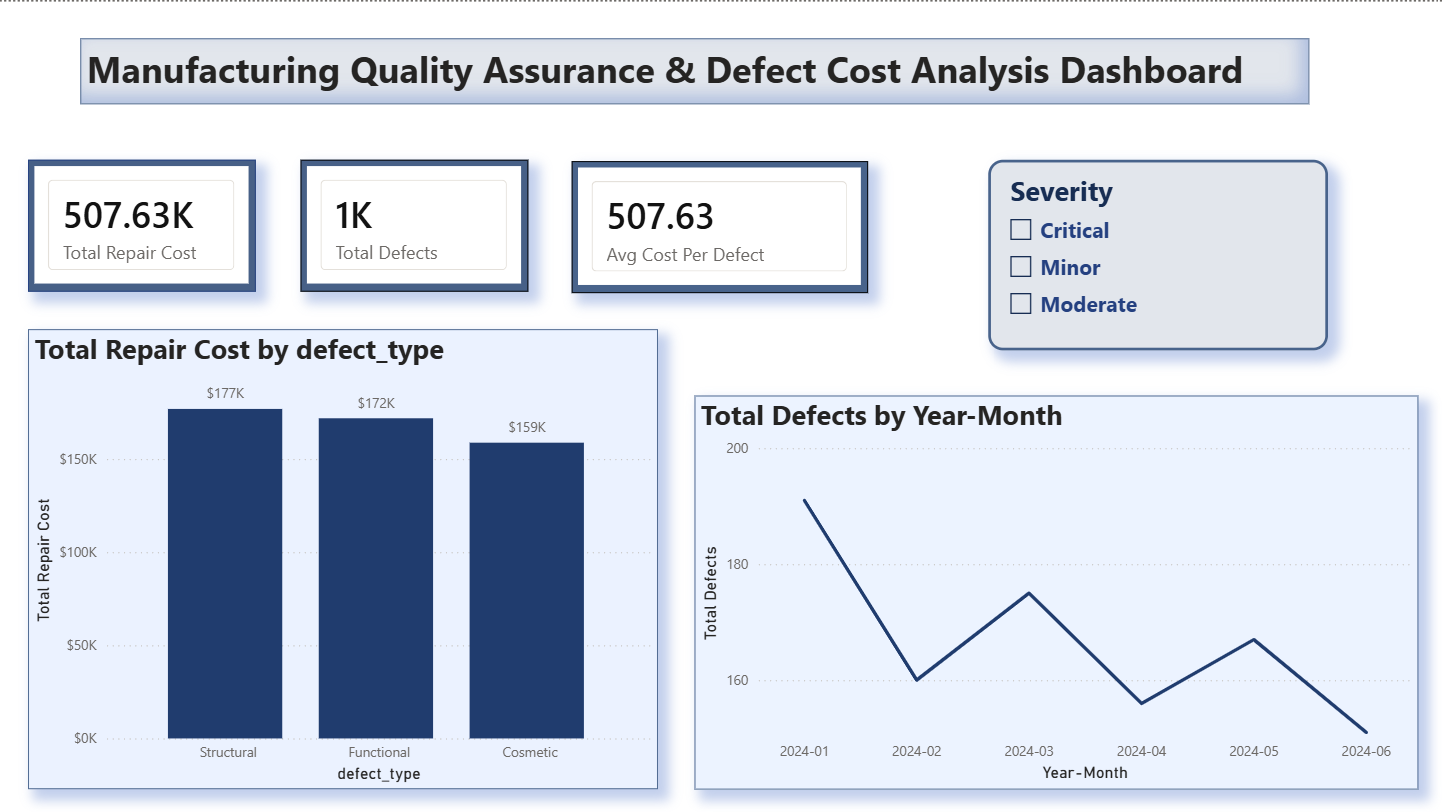

The page's visual inventory and layout, read from the dashboard file:
{"tool":"powerbi","page":{"name":"Page 1","canvas":[1280,720],"ordinal":0},"visuals":[{"type":"cardVisual","fields":{"Data":["cleaned_defects_data.Total Repair Cost"]},"box":[26.1,140,201.7,116.6],"z":0},{"type":"cardVisual","fields":{"Data":["cleaned_defects_data.Total Defects"]},"box":[266.9,140,201.7,116.6],"z":1000},{"type":"cardVisual","fields":{"Data":["cleaned_defects_data.Avg Cost Per Defect"]},"box":[507.7,141.3,262.1,116.6],"z":2000},{"type":"clusteredColumnChart","fields":{"Category":["cleaned_defects_data.defect_type"],"Y":["cleaned_defects_data.Total Repair Cost"]},"box":[26.2,290,557.5,407.5],"z":3000},{"type":"lineChart","fields":{"Category":["DimCalendar.Year-Month"],"Y":["cleaned_defects_data.Total Defects"]},"box":[616.1,348.5,640.8,348.5],"z":4000},{"type":"slicer","fields":{"Values":["cleaned_defects_data.severity"]},"box":[876.8,140,300.5,168.8],"z":5000},{"type":"textbox","box":[72,32,1088,58],"z":6000}]}

Visuals, with their boxes in screenshot pixels (x1, y1, x2, y2), scaled from the page's 1280x720 canvas onto the 1442x812 screenshot:
cardVisual - cleaned_defects_data.Total Repair Cost: left=29, top=158, right=257, bottom=289
cardVisual - cleaned_defects_data.Total Defects: left=301, top=158, right=528, bottom=289
cardVisual - cleaned_defects_data.Avg Cost Per Defect: left=572, top=159, right=867, bottom=291
clusteredColumnChart - cleaned_defects_data.defect_type x cleaned_defects_data.Total Repair Cost: left=30, top=327, right=658, bottom=787
lineChart - DimCalendar.Year-Month x cleaned_defects_data.Total Defects: left=694, top=393, right=1416, bottom=786
slicer - cleaned_defects_data.severity: left=988, top=158, right=1326, bottom=348
textbox: left=81, top=36, right=1307, bottom=102
